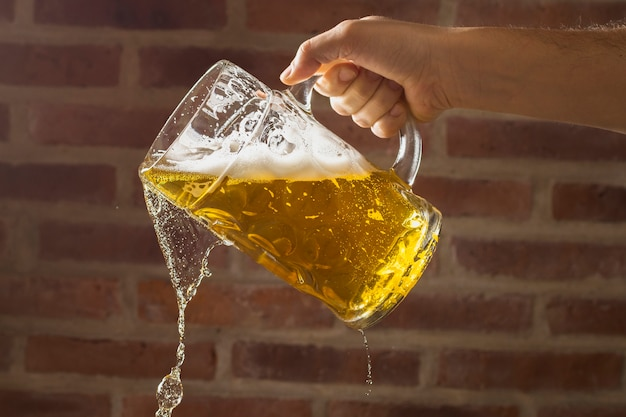alcohol: (136, 58, 450, 329)
